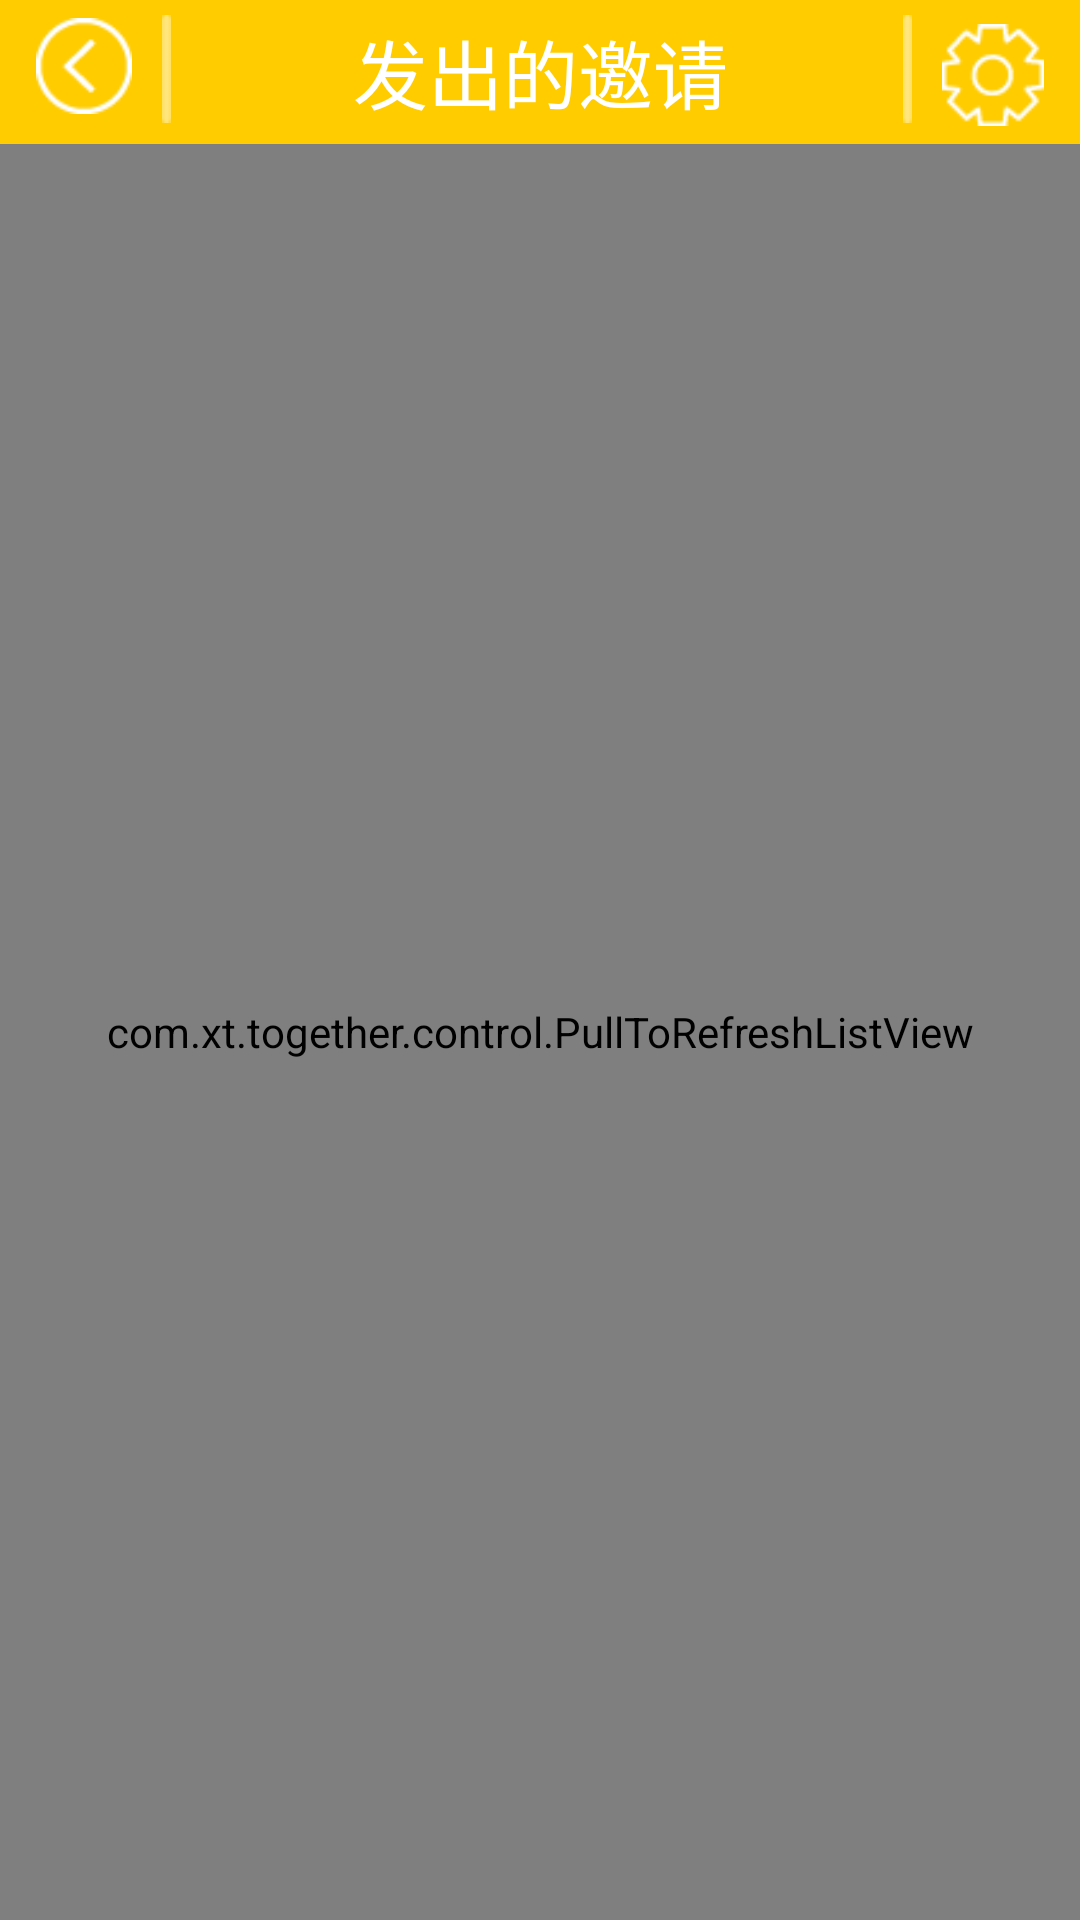

Icons on this 1080 x 1920 Android screen, each with its box as (left=x1, top=y1, right=x2, bottom=y2):
title back: (left=36, top=18, right=132, bottom=114)
title setting: (left=942, top=24, right=1044, bottom=126)
